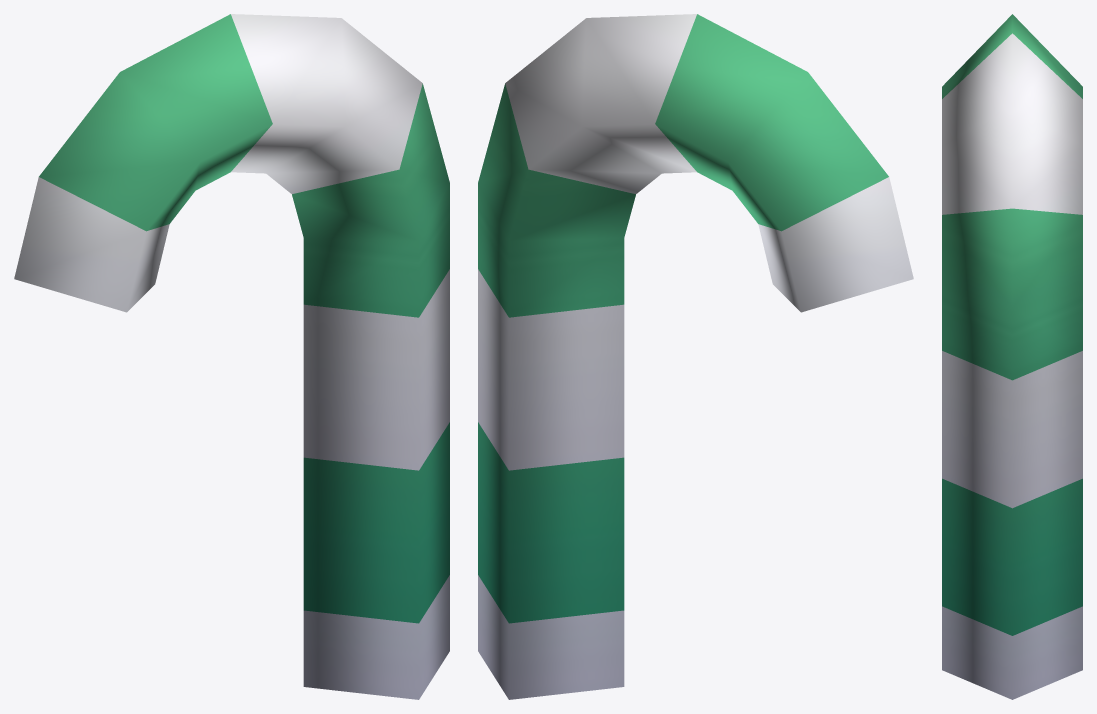
File: kenney-holiday-candy-cane-green.glb
The picture shows the model from 3 angles, left to right: view 1: azimuth 30°, elevation 25°; view 2: azimuth 150°, elevation 25°; view 3: azimuth 270°, elevation 25°; orthographic projection. The views are drawn at different scales.
Visible parts, largest first — view 1: candy-cane-green; view 2: candy-cane-green; view 3: candy-cane-green.
Part boxes in pixels (bbox=[...]): candy-cane-green: bbox=[14, 14, 449, 699]; candy-cane-green: bbox=[478, 14, 913, 699]; candy-cane-green: bbox=[942, 14, 1082, 699].
Bounding box in the file's own units: 0.2983 × 0.4518 × 0.1.
1 material, 1 textured.
